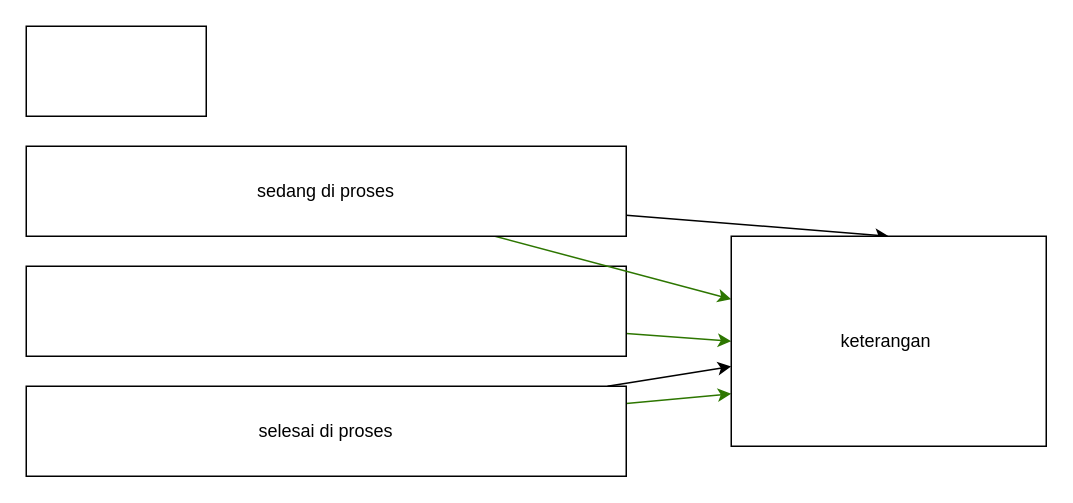
The diagram is 1073 pixels wide and 503 high, and some of its shapes have lost their labels. Here are the shapes that lost their labels. From the top down, the centre of each, then its label:
At [115,70]: "data report".
At [325,310]: "belum di proses".
